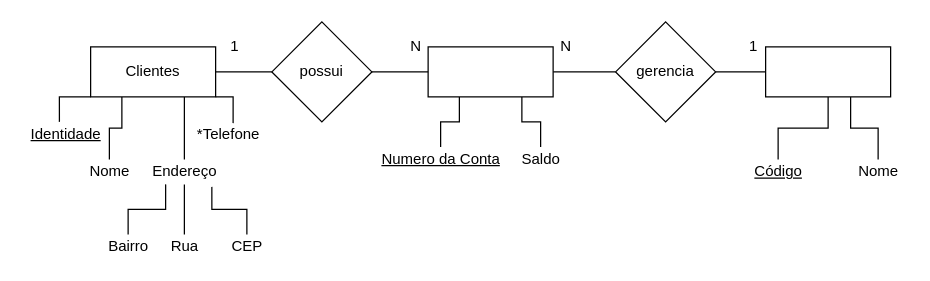
Some shapes in this 930 by 281 pixel diagram are drawn without their labels. Here are the shapes that lost their labels. From the top down, the centre of each, then its label:
(490,71): Contas
(827,71): Agências
